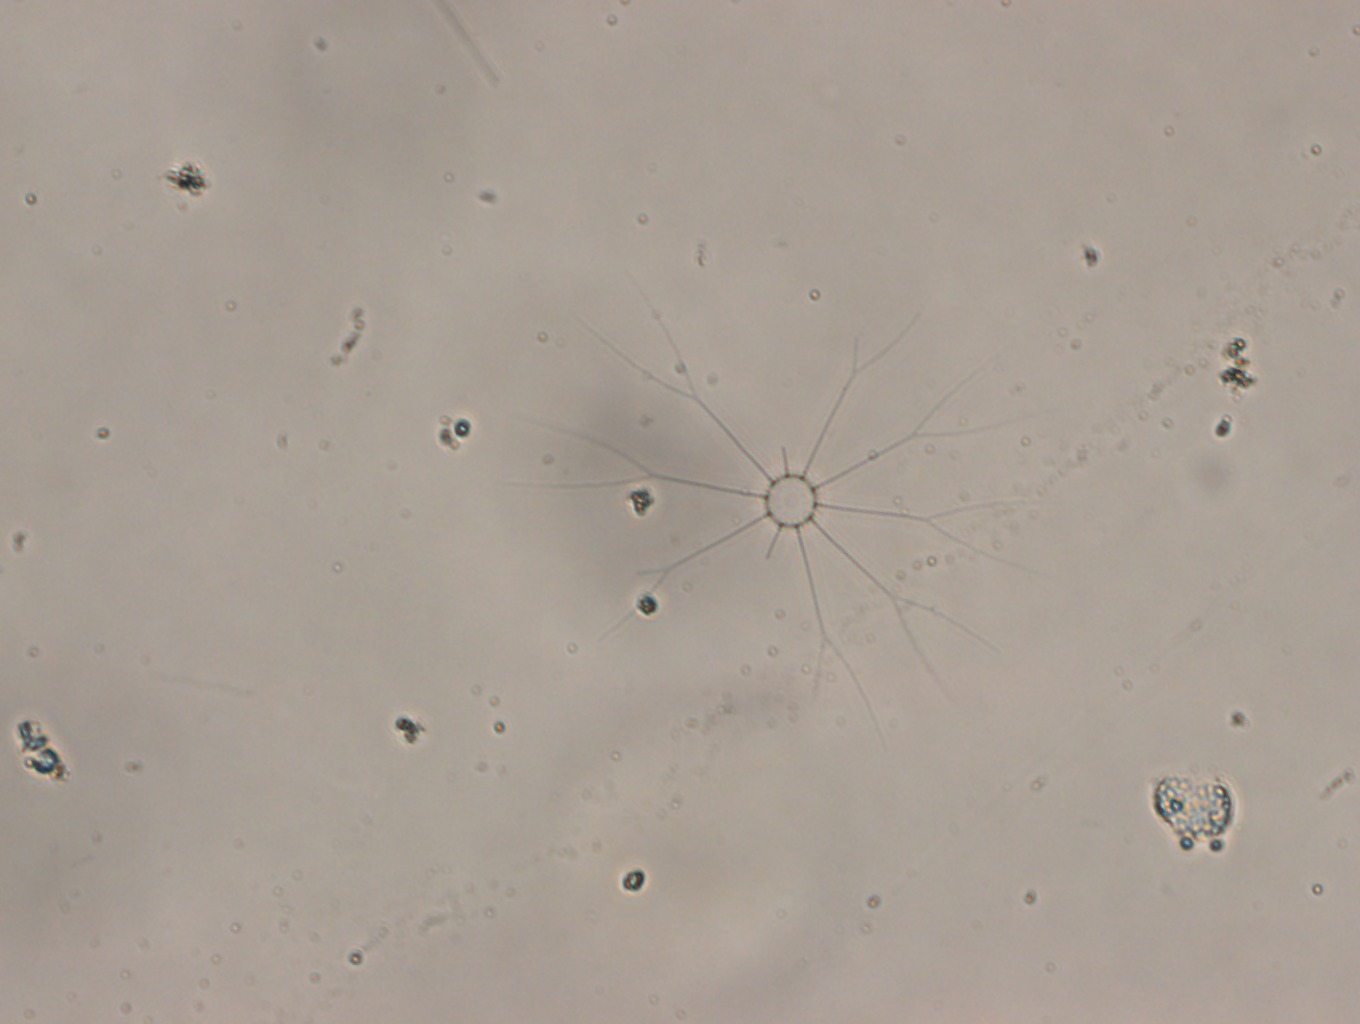bacteriastrum: (513, 281, 1053, 760)
